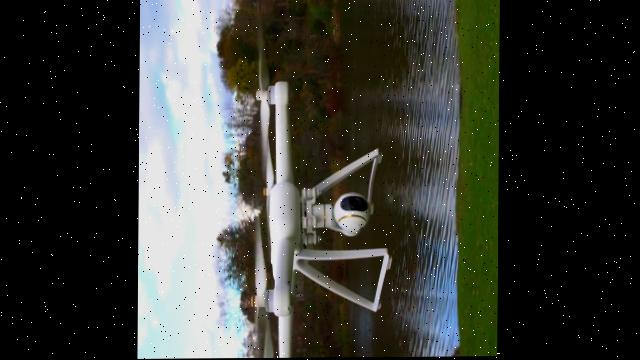drone: (233, 35, 397, 359)
